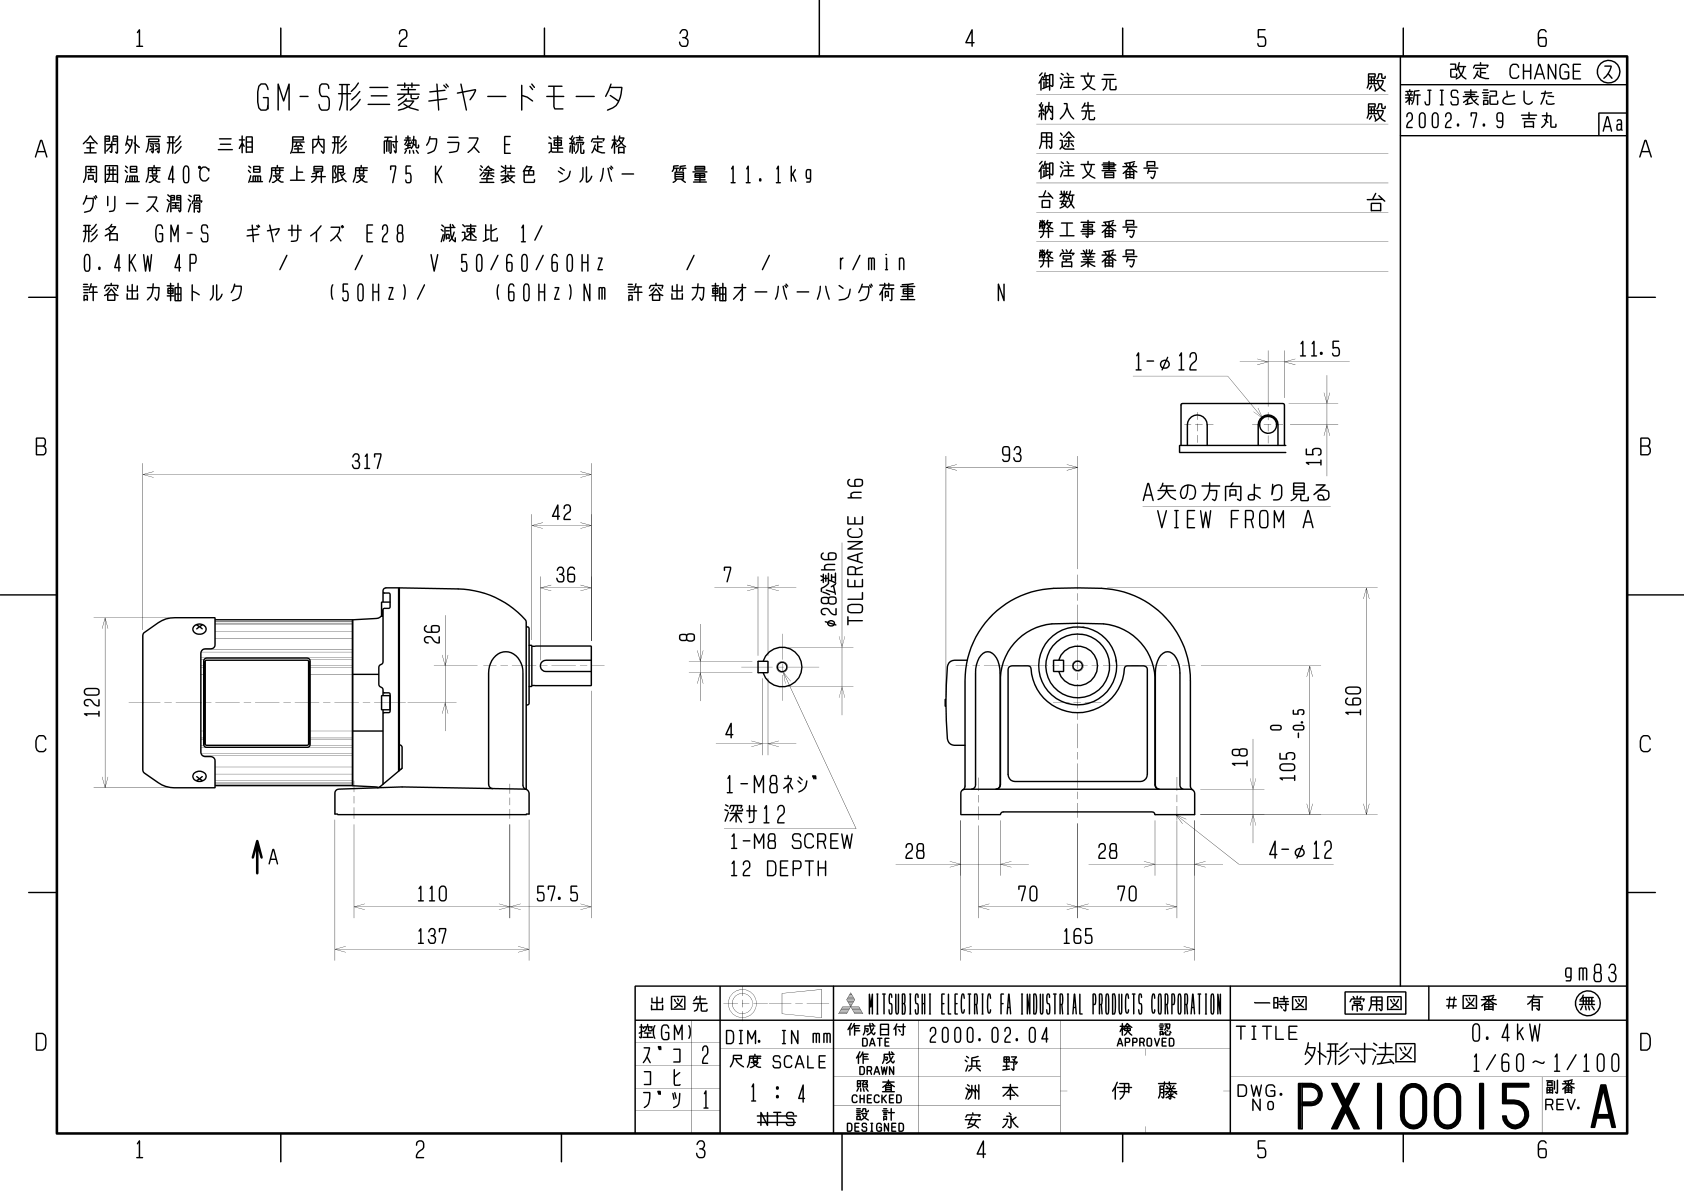GM_S_屋内＿三相_脚: (70, 322, 1386, 967)
